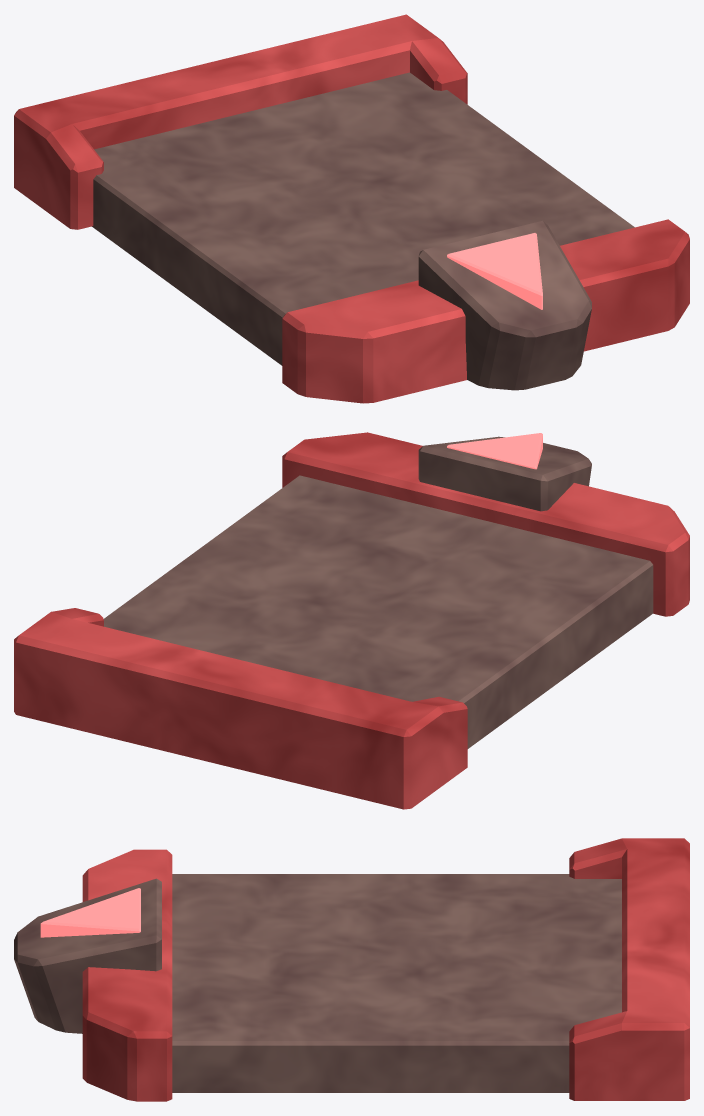
Rendered from red_baseplate.glb.
3 views of the same model, one above another, from view 1: azimuth 30°, elevation 25°; view 2: azimuth 150°, elevation 25°; view 3: azimuth 270°, elevation 25° (orthographic). The views are drawn at different scales.
Parts seen in each view (by area): view 1: RedPlate; view 2: RedPlate; view 3: RedPlate.
Boxes of the visible parts, x1,y1,x2,y2 form: RedPlate: [14, 14, 689, 403]; RedPlate: [14, 432, 689, 809]; RedPlate: [14, 838, 689, 1101].
Size of the model in its own units: 0.9761 by 0.2441 by 1.47.
1 material, 1 textured.
